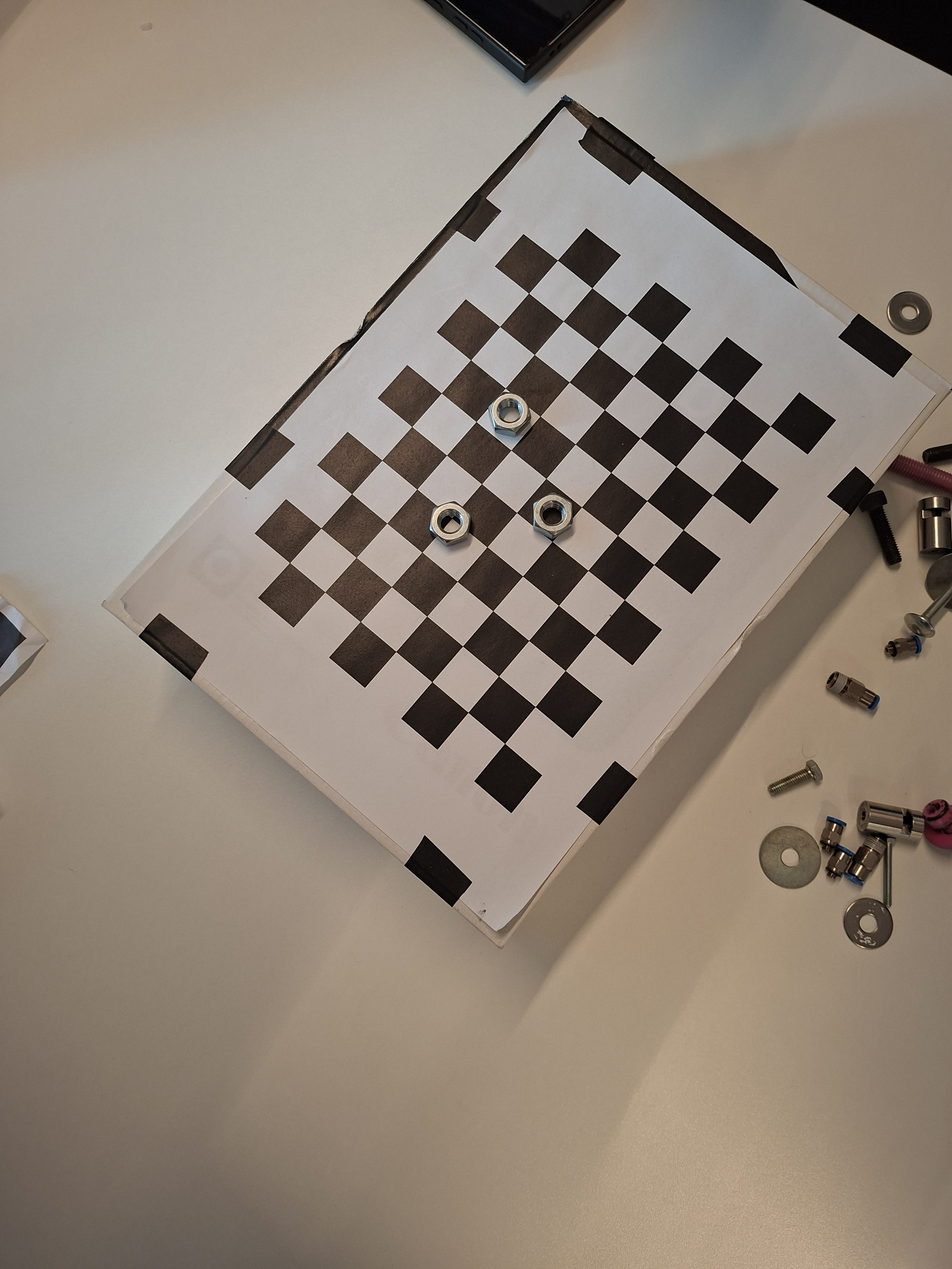hex_nut: (520, 483, 587, 549), (419, 493, 483, 555), (480, 388, 544, 445)
